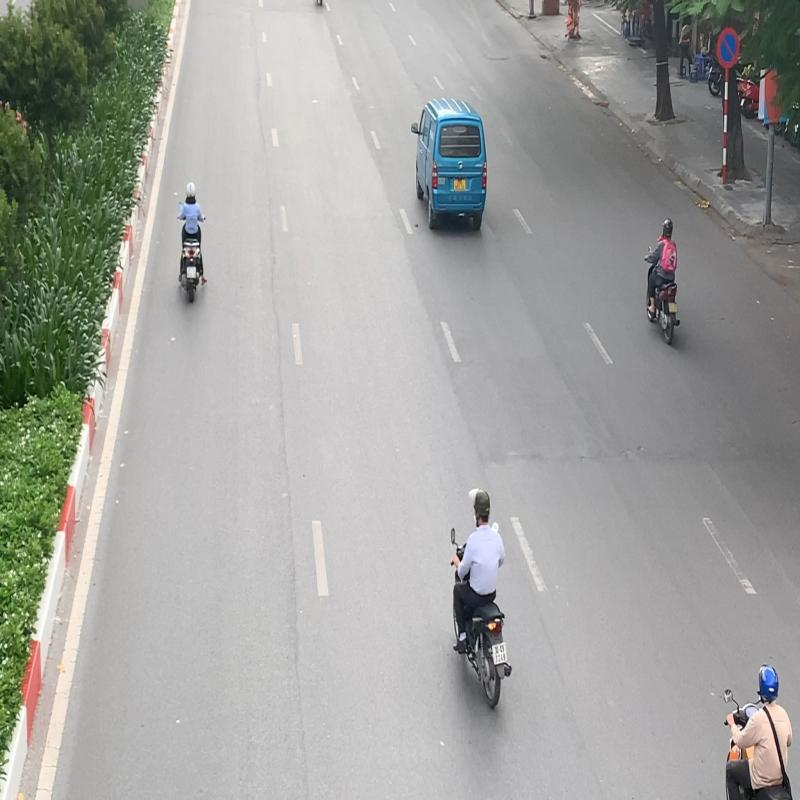helmet: (468, 489, 490, 525)
licenseplate: (492, 642, 507, 664)
motorcyclist: (442, 482, 516, 718)
